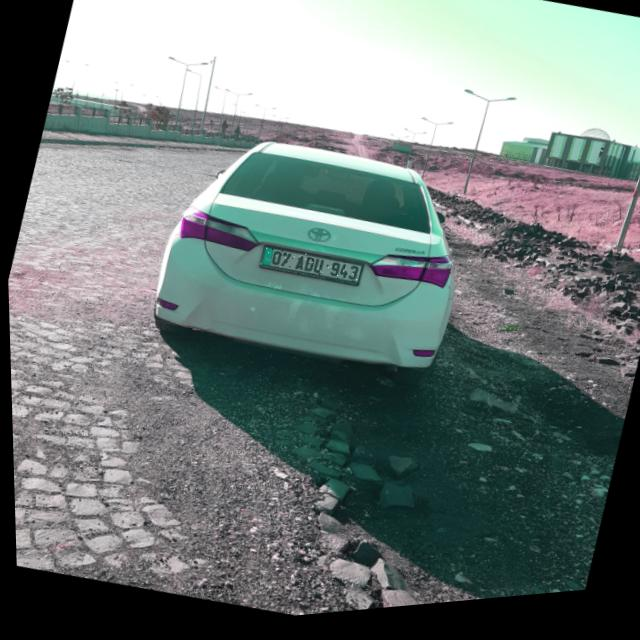license_plate: (257, 244, 361, 296)
